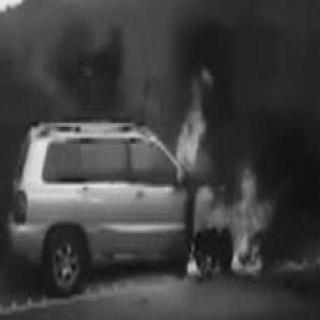Fire: (159, 82, 267, 274)
Smoke: (189, 10, 315, 188)
